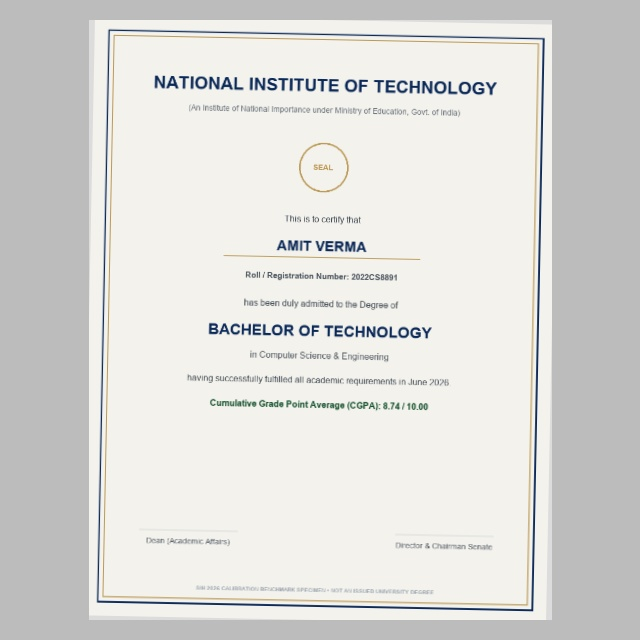marksheet: (89, 20, 552, 620)
